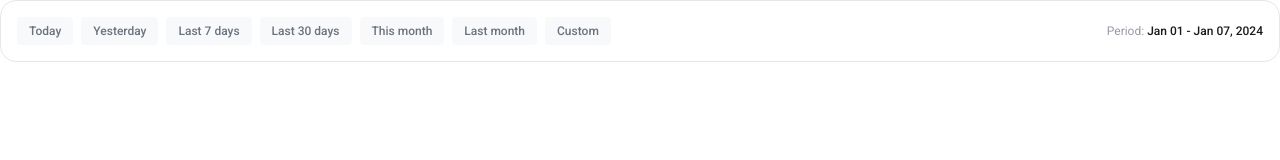
Test: DateRangePicker › should show custom date inputs when Custom button clicked
The image size is (1280, 160).
Click the button "Custom": [578, 31] box [545,17,611,45]
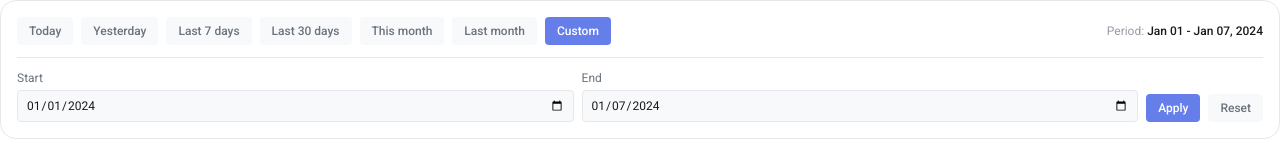
Expected: the date field labelled "Start" is shown, [17,90,574,122]
Expected: the date field labelled "End" is shown, [582,90,1138,122]
Expected: the button "Apply" is shown, [1146,94,1200,122]
